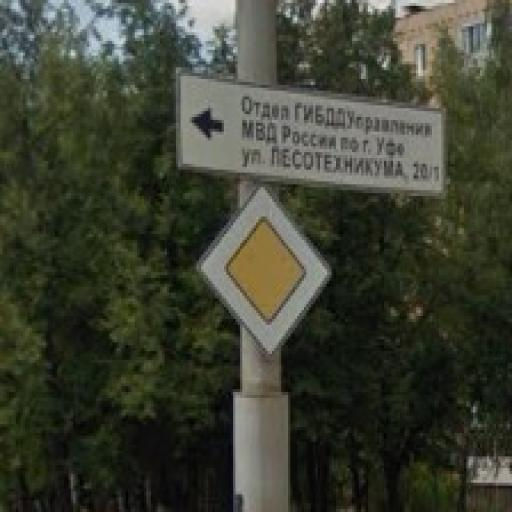traffic_sign: (193, 182, 337, 364)
